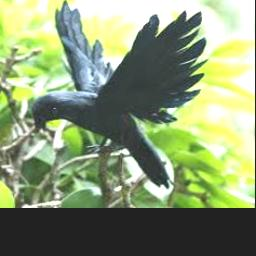Crow: (31, 0, 207, 189)
